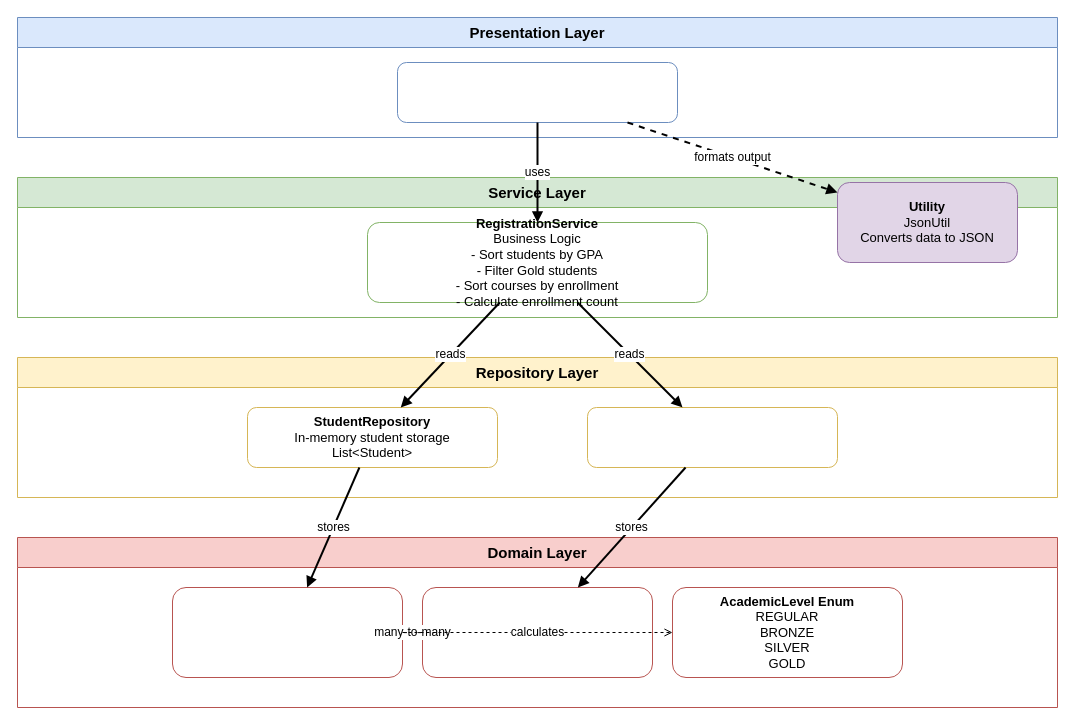
Image size: 1075x725. Some labels were removed from this diagram. Here are the shapes that lost their labels. From the top down, the centre of each, then its label:
At point 537,92: "ScrmsCliApplication - Shows menu - Reads user choice - Prints JSON output".
At point 712,437: "CourseRepository In-memory course storage List<Course>".
At point 287,632: "Student Entity studentId firstName lastName gpa completedCredits".
At point 537,632: "Course Entity courseId courseCode title creditHours".
